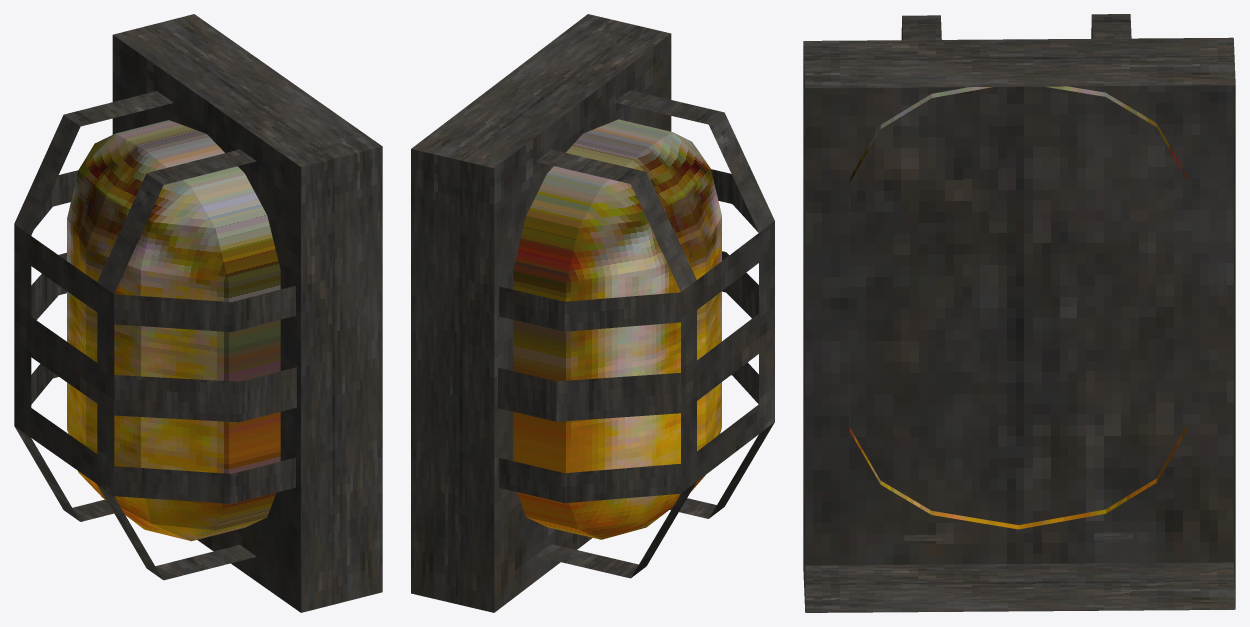
Rendered from light_test_2.glb.
3 views of the same model, side by side, from view 1: azimuth 30°, elevation 25°; view 2: azimuth 150°, elevation 25°; view 3: azimuth 270°, elevation 25° (orthographic). The views are drawn at different scales.
Visible parts, largest first — view 1: light; view 2: light; view 3: light.
Boxes of the visible parts, x1,y1,x2,y2 form: light: (14,14,382,612); light: (411,14,774,612); light: (803,14,1235,612).
Bounding box in the file's own units: 0.9073 × 1.67 × 1.25.
Materials: 1 (1 with a texture image).
